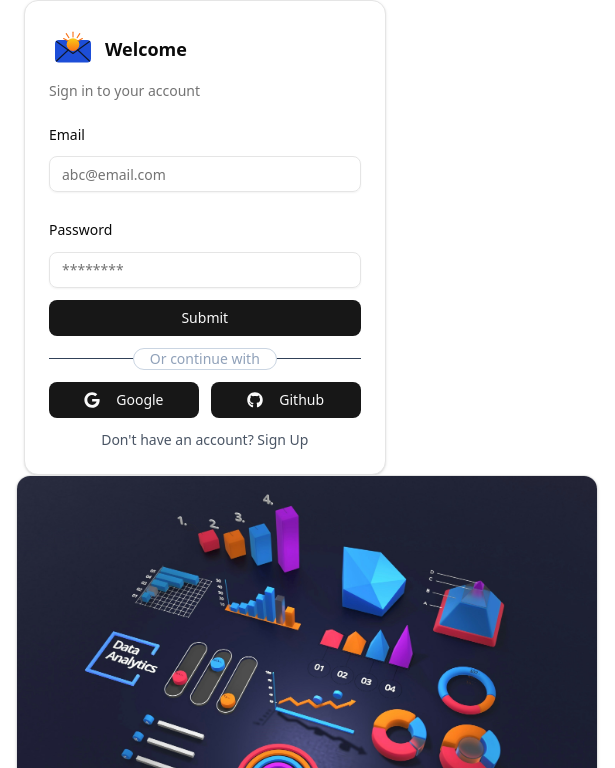
Test: SignIn Page › SignIn Component - Form Validation › shows validation error for password too short
The image size is (615, 768).
Type "test@example.com" into the field labelled "Email" at [205, 174], box [49, 156, 361, 192]
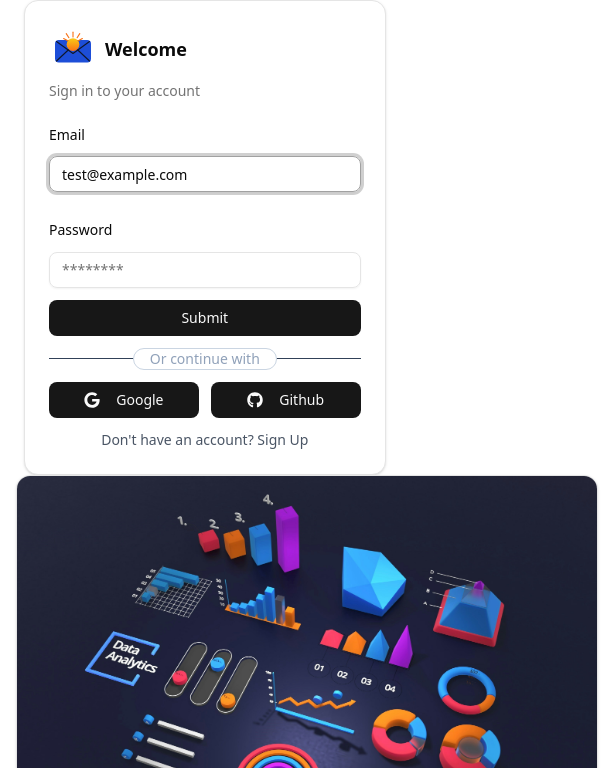
Type "short" into the field labelled "Password" at [205, 270], box [49, 252, 361, 288]
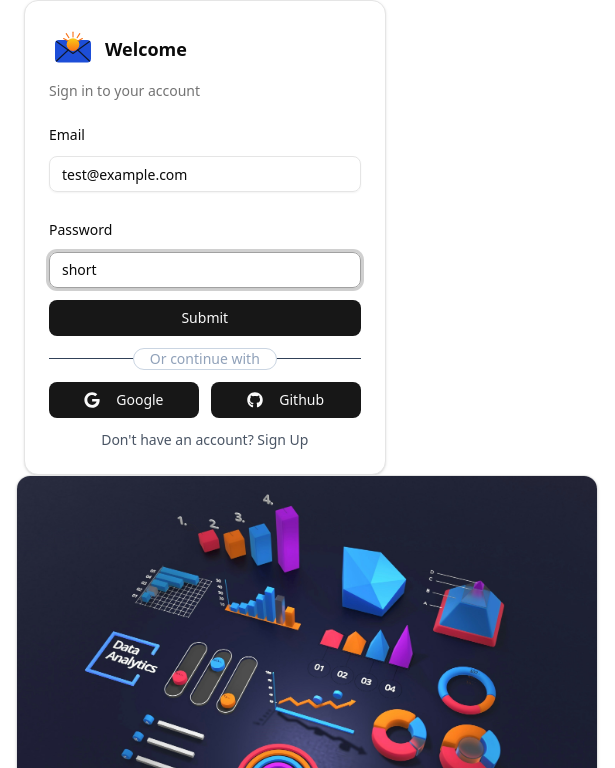
Click the button "Submit" at [205, 318], box [49, 300, 361, 336]
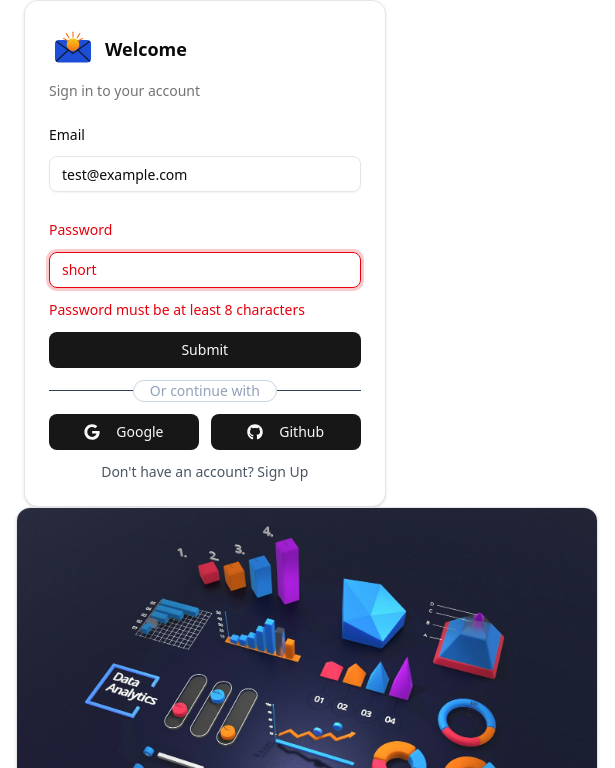
Expected: the text "Password must be at least 8 characters" is shown, [49, 300, 305, 318]
